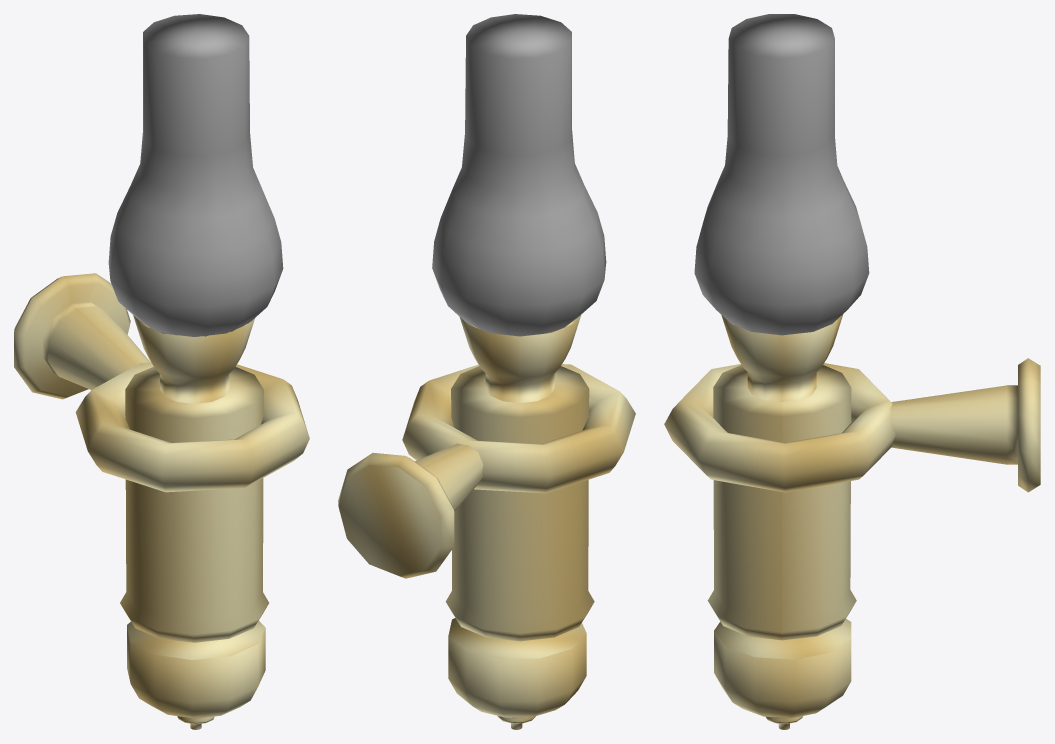
File: WallLight_obj.fbx
3 renders of one model, left to right at view 1: azimuth 30°, elevation 25°; view 2: azimuth 150°, elevation 25°; view 3: azimuth 270°, elevation 25°, orthographic.
Visible parts, largest first — view 1: Glass, Foundation_1, maru, Stick, Foundation_2; view 2: Glass, Foundation_1, Stick, maru, Foundation_2; view 3: Glass, Foundation_1, maru, Stick, Foundation_2.
Boxes of the visible parts, bbox=[...] form: Glass: bbox=[108, 14, 283, 336]; Foundation_1: bbox=[120, 315, 268, 642]; maru: bbox=[75, 362, 309, 492]; Stick: bbox=[14, 273, 150, 399]; Foundation_2: bbox=[127, 620, 265, 729]; Glass: bbox=[432, 14, 606, 336]; Foundation_1: bbox=[445, 315, 594, 641]; Stick: bbox=[338, 443, 483, 578]; maru: bbox=[402, 364, 635, 493]; Foundation_2: bbox=[448, 618, 586, 729]; Glass: bbox=[694, 14, 869, 335]; Foundation_1: bbox=[707, 314, 856, 640]; maru: bbox=[664, 363, 895, 492]; Stick: bbox=[890, 358, 1040, 492]; Foundation_2: bbox=[714, 619, 851, 729].
Size of the model in its own units: 42.83 by 135 by 66.66.
